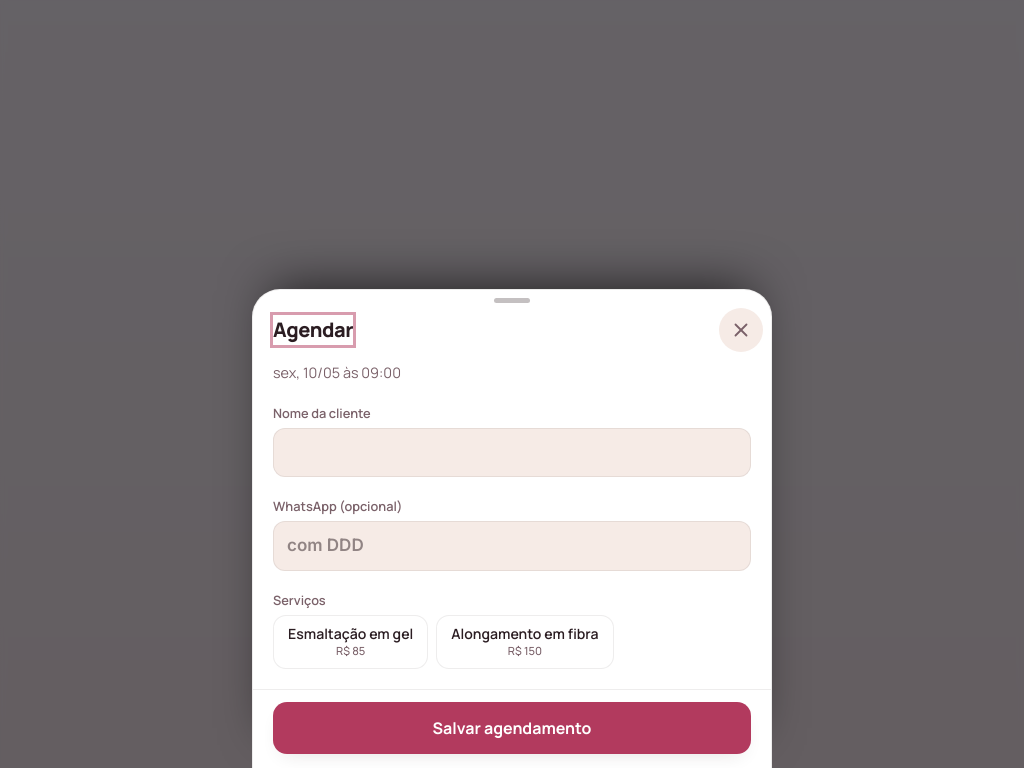
Test: FolhaAgendar › horário ocupado por outra pessoa entre abrir e salvar: mensagem específica
Type "Bruna" into the field labelled "Nome da cliente" at {"x": 512, "y": 453}, box [273,428,751,477]
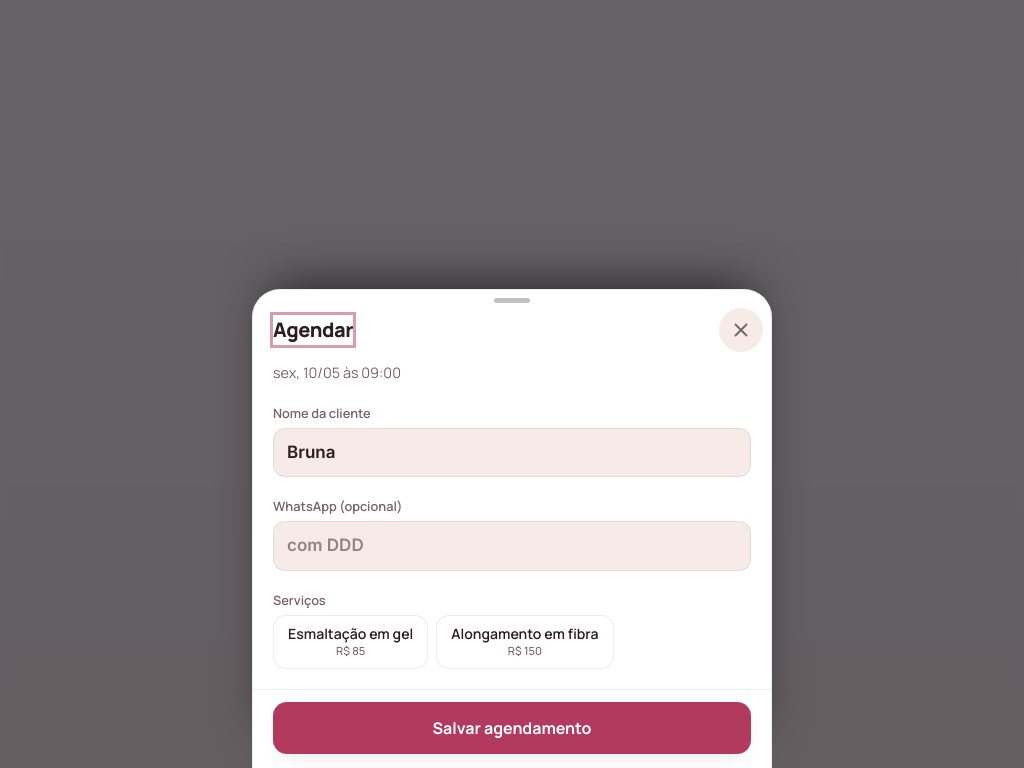
Click the button "Esmaltação em gel R$ 85" at {"x": 351, "y": 642}, box [273,615,428,669]
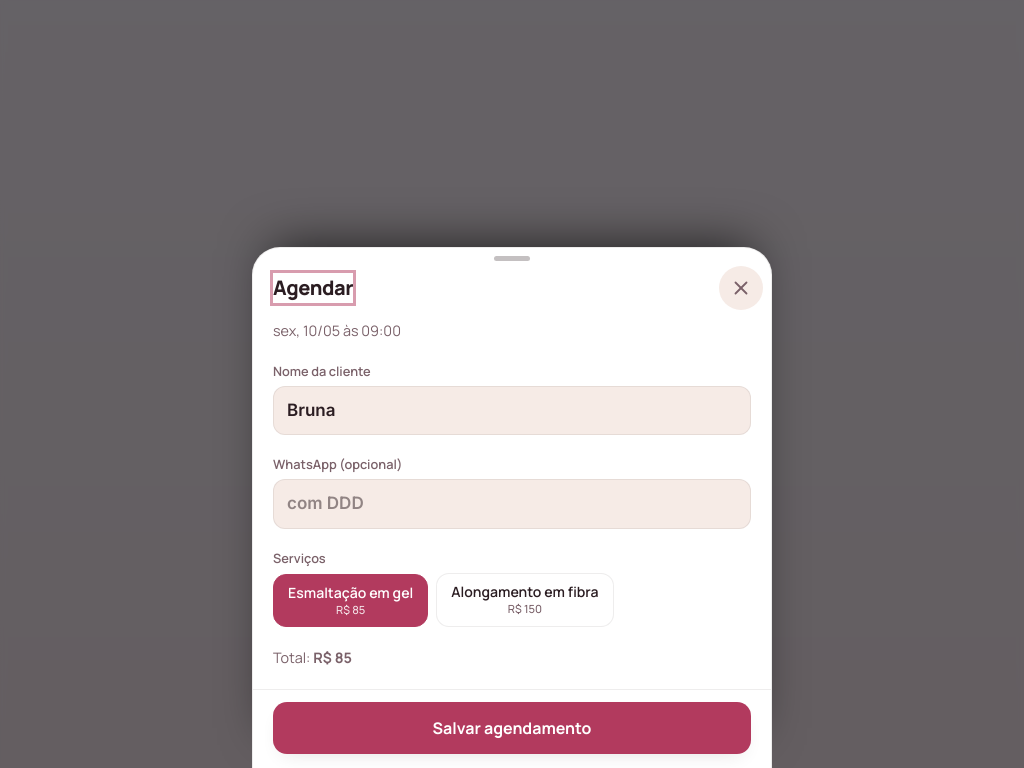
Click the button "Salvar agendamento" at {"x": 512, "y": 728}, box [273,702,751,754]
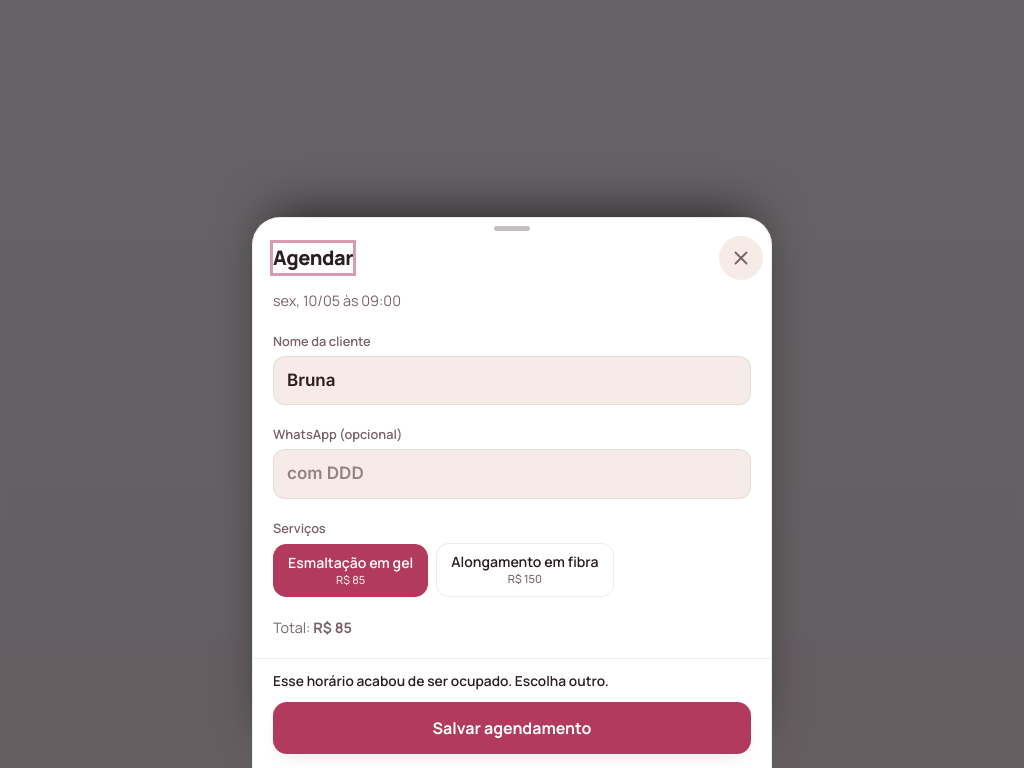
Result: the text "Esse horário acabou de ser ocupado. Escolha outro." is shown at [273,671,609,690]
